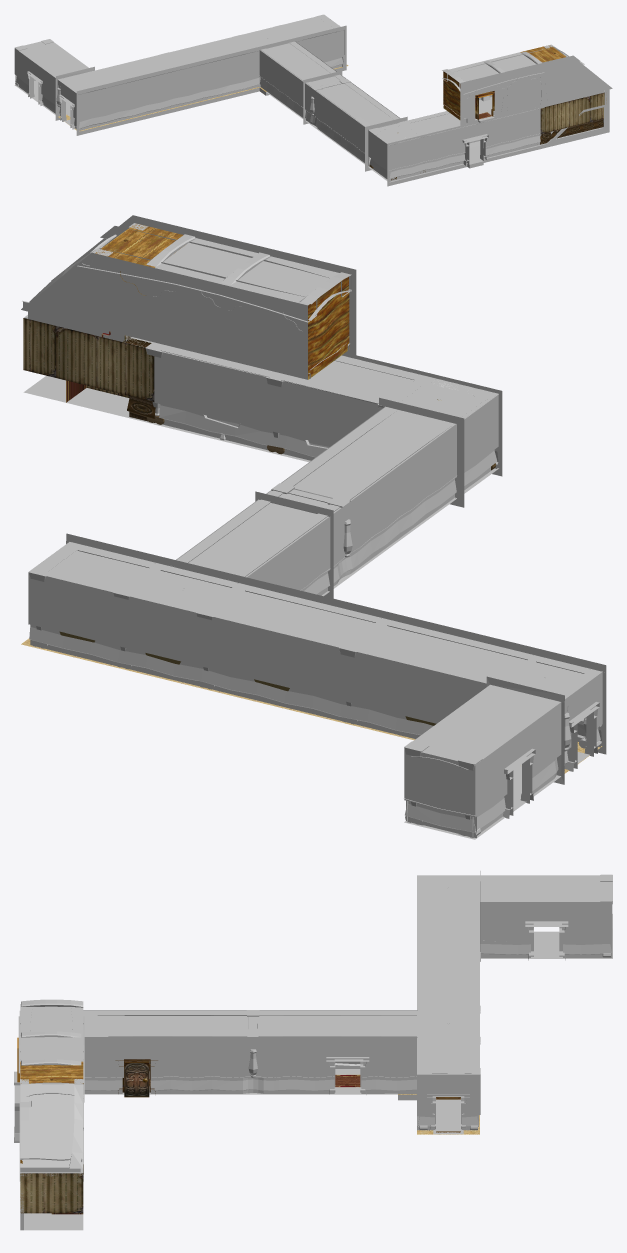
File: Hallway F2 & Stairs.dae
3 renders of one model, top to bottom at view 1: azimuth 30°, elevation 25°; view 2: azimuth 150°, elevation 25°; view 3: azimuth 270°, elevation 25°, orthographic. The views are drawn at different scales.
Visible parts, largest first — view 1: Batch_30.015, Batch_3.042, Batch_10.026, Batch_3.010, Batch_29.020, Batch_3.027, Batch_4.027, Batch_0.064, Batch_21.038, Batch_9.026, Batch_7.010, Batch_4.021 (+33 smaller); view 2: Batch_12.040, Batch_3.042, Batch_9.010, Batch_17.020, Batch_15.039, Batch_1.043, Batch_20.017, Batch_16.023, Batch_0.064, Batch_21.038, Batch_7.010, Batch_16.039 (+27 smaller); view 3: Batch_3.042, Batch_0.064, Batch_4.021, Batch_1.043, Batch_21.038, Batch_21.017, Batch_7.010, Batch_16.039, Batch_10.061, Batch_2.021, Batch_16.023, Batch_22.016 (+14 smaller).
Part boxes in pixels (bbox=[...]): Batch_30.015: bbox=[78, 30, 344, 120]; Batch_3.042: bbox=[58, 14, 340, 92]; Batch_10.026: bbox=[389, 109, 540, 170]; Batch_3.010: bbox=[464, 67, 540, 122]; Batch_29.020: bbox=[79, 57, 343, 130]; Batch_3.027: bbox=[540, 60, 605, 104]; Batch_4.027: bbox=[540, 92, 606, 133]; Batch_0.064: bbox=[305, 75, 399, 155]; Batch_21.038: bbox=[305, 75, 399, 126]; Batch_9.026: bbox=[389, 133, 540, 181]; Batch_7.010: bbox=[448, 52, 536, 120]; Batch_4.021: bbox=[259, 41, 336, 108]; Batch_12.040: bbox=[28, 573, 486, 723]; Batch_3.042: bbox=[29, 542, 602, 698]; Batch_9.010: bbox=[154, 268, 307, 379]; Batch_17.020: bbox=[154, 352, 378, 445]; Batch_15.039: bbox=[29, 624, 602, 765]; Batch_1.043: bbox=[404, 702, 561, 817]; Batch_20.017: bbox=[23, 253, 154, 342]; Batch_16.023: bbox=[23, 318, 154, 401]; Batch_0.064: bbox=[266, 406, 456, 566]; Batch_21.038: bbox=[267, 407, 451, 513]; Batch_7.010: bbox=[155, 238, 340, 305]; Batch_16.039: bbox=[413, 684, 560, 765]; Batch_3.042: bbox=[417, 875, 479, 1074]; Batch_0.064: bbox=[83, 1010, 278, 1077]; Batch_4.021: bbox=[278, 1010, 417, 1077]; Batch_1.043: bbox=[480, 902, 612, 941]; Batch_21.038: bbox=[84, 1011, 278, 1036]; Batch_21.017: bbox=[20, 1084, 74, 1167]; Batch_7.010: bbox=[14, 1004, 83, 1082]; Batch_16.039: bbox=[480, 875, 612, 901]; Batch_10.061: bbox=[84, 1061, 278, 1093]; Batch_2.021: bbox=[278, 1011, 416, 1036]; Batch_16.023: bbox=[20, 1173, 83, 1213]; Batch_22.016: bbox=[20, 1059, 84, 1168].
Size of the model in its own units: 574 by 476 by 115.
